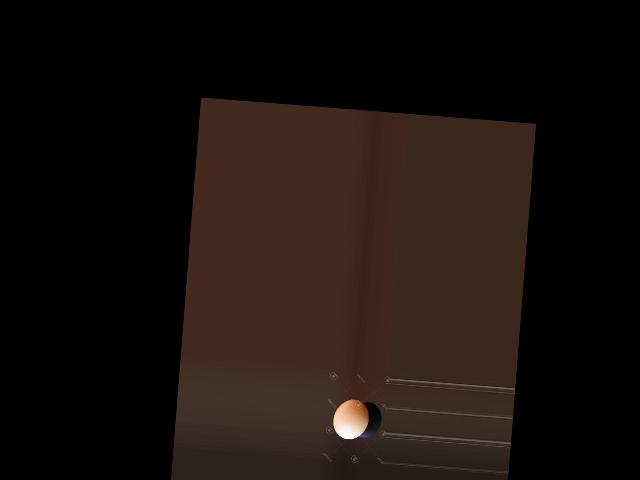egg: (332, 397, 370, 440)
